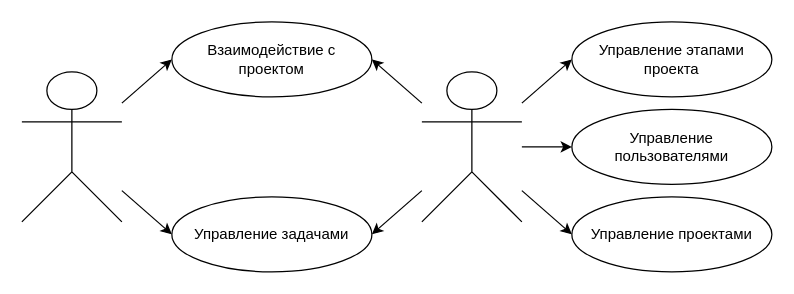
This 794x294 diagram has some shape labels left out. The centre of each missing label's shape, as x and y in pixels:
"Администратор" belongs at pixel 471 146.
"Пользователь" belongs at pixel 71 146.
